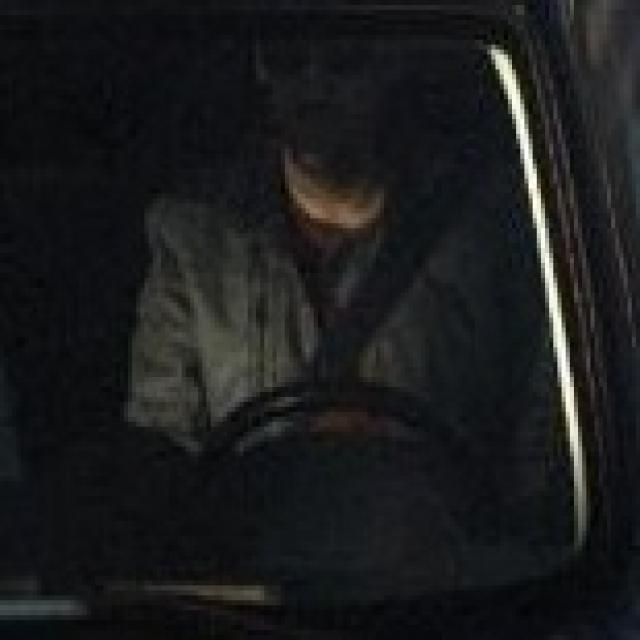seatbelt: (347, 144, 487, 352)
